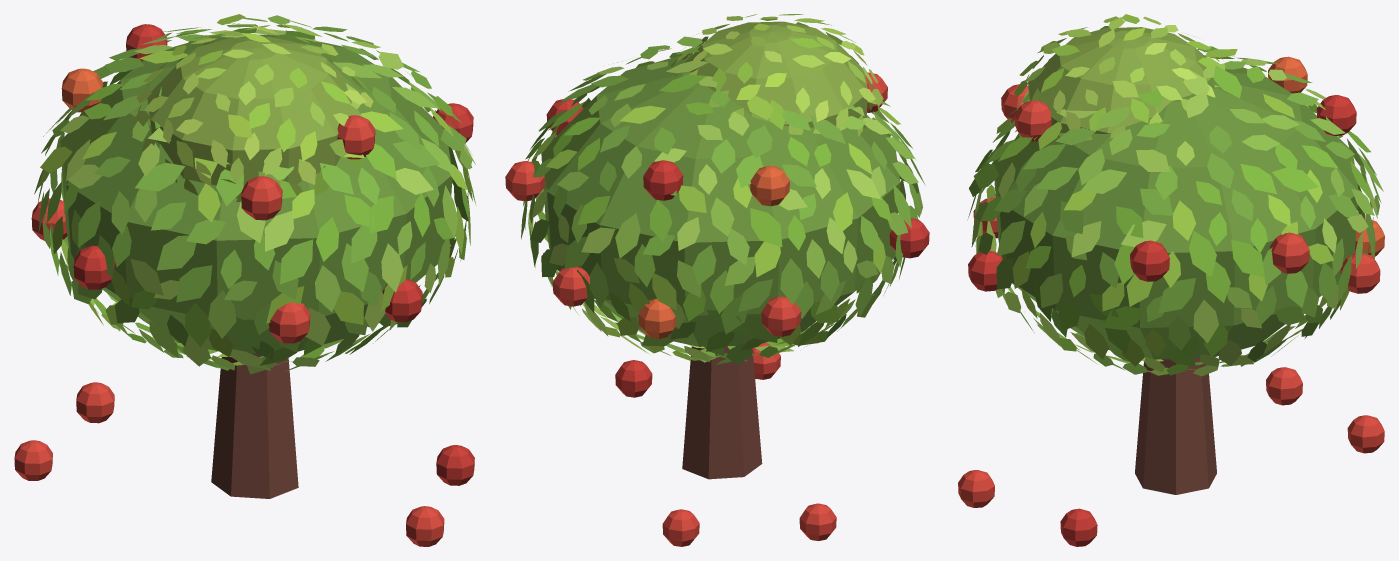
File: apple-tree.glb
The picture shows the model from 3 angles, left to right: view 1: azimuth 30°, elevation 25°; view 2: azimuth 150°, elevation 25°; view 3: azimuth 270°, elevation 25°; orthographic projection. The views are drawn at different scales.
Parts seen in each view (by area): view 1: apple-tree; view 2: apple-tree; view 3: apple-tree.
Part boxes in pixels (left/top/right/bottom): apple-tree: left=14, top=14, right=476, bottom=546; apple-tree: left=505, top=14, right=929, bottom=546; apple-tree: left=958, top=14, right=1384, bottom=546.
Bounding box in the file's own units: 1.58 × 1.75 × 1.56.
